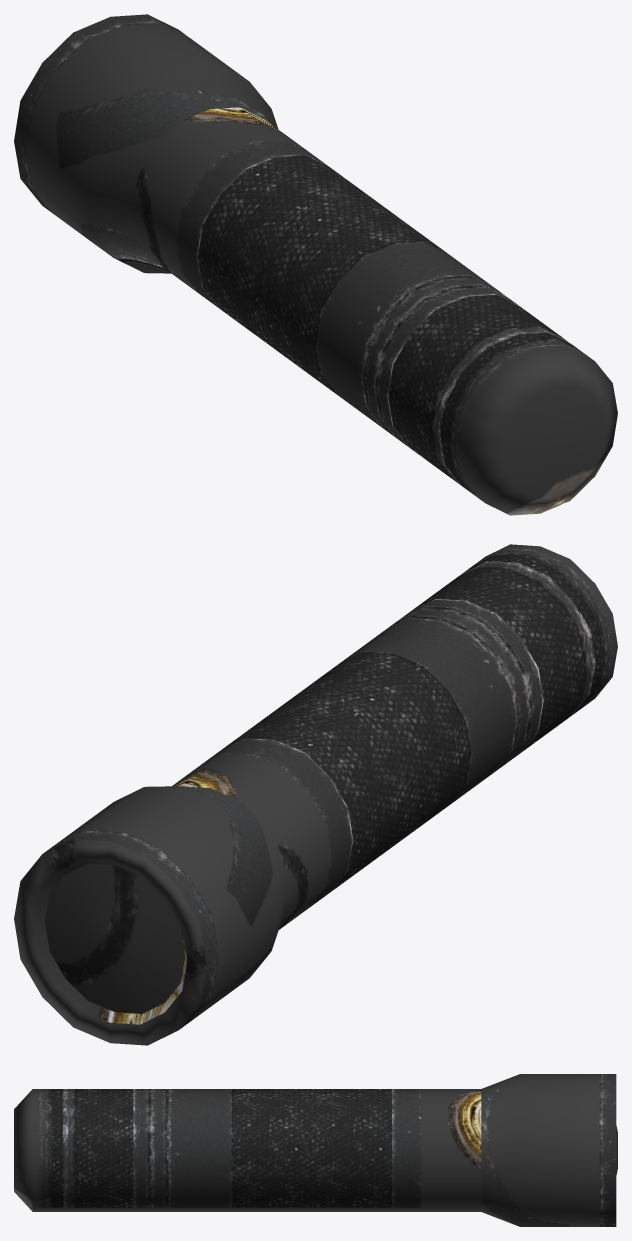
Rendered from Flashlight.fbx.
3 views of the same model, one above another, from view 1: azimuth 30°, elevation 25°; view 2: azimuth 150°, elevation 25°; view 3: azimuth 270°, elevation 25° (orthographic). The views are drawn at different scales.
Parts seen in each view (by area): view 1: Flashlight_LP; view 2: Flashlight_LP; view 3: Flashlight_LP.
Boxes of the visible parts, x1,y1,x2,y2 form: Flashlight_LP: (14, 14, 617, 515); Flashlight_LP: (14, 544, 617, 1045); Flashlight_LP: (14, 1074, 617, 1226).
Bounding box in the file's own units: 0.0393 × 0.1567 × 0.0393.
